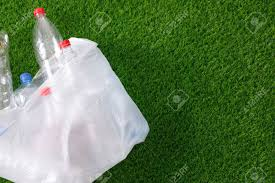plastic_bottle: (29, 6, 80, 85)
